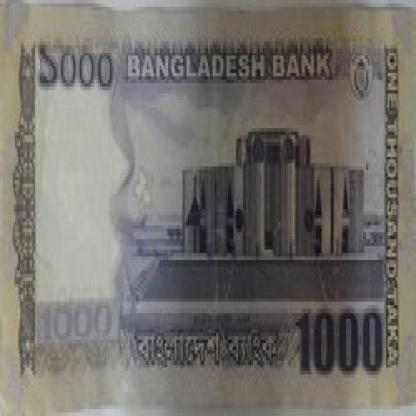One Thousand taka: (296, 305, 388, 385), (35, 45, 113, 97), (36, 302, 116, 346)
